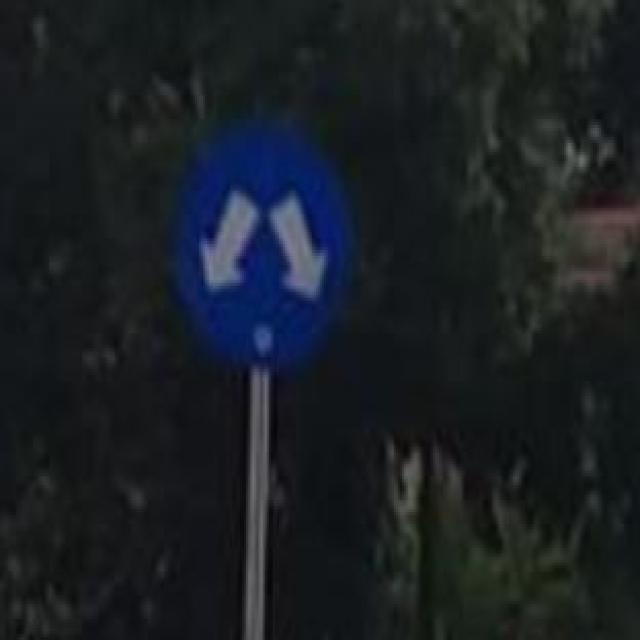traffic sign: (172, 128, 350, 369)
